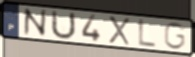4: (80, 14, 103, 44)
G: (162, 21, 188, 51)
L: (137, 18, 158, 49)
N: (22, 7, 49, 38)
U: (49, 9, 78, 41)
X: (107, 15, 132, 47)
